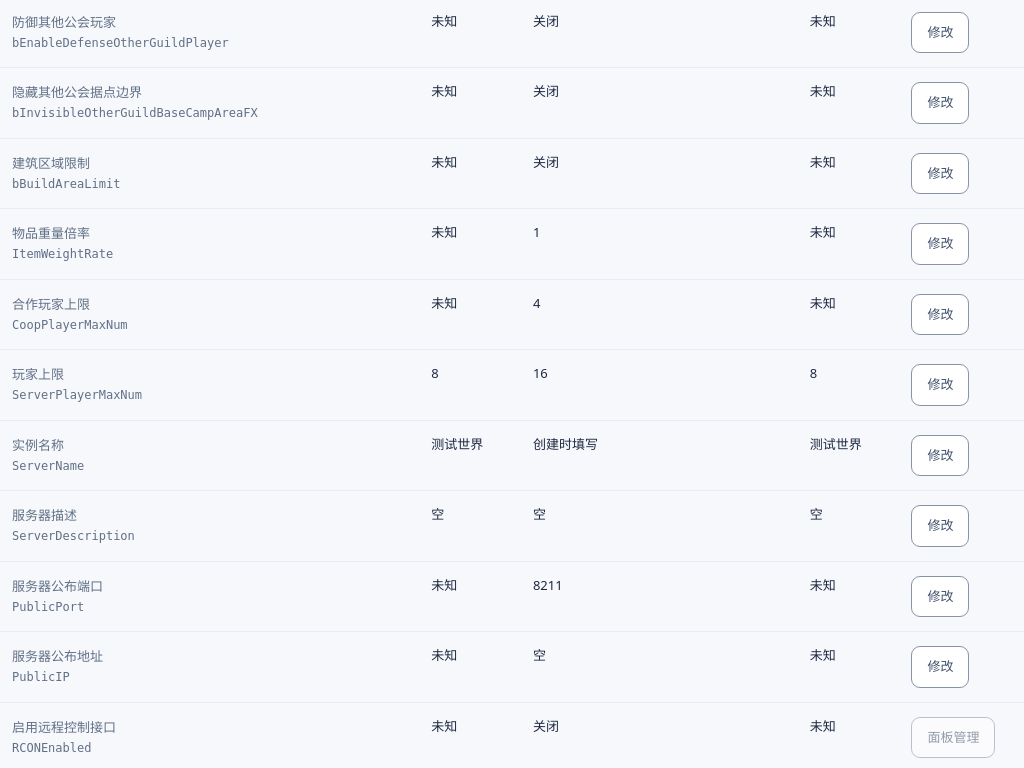
参数列表编辑 › 保存失败保留输入和弹窗，可修改后重试
The image size is (1024, 768).
(page scrolled)
Click the button with aria-label "修改玩家上限".
click(940, 385)  # box [911,364,969,406]
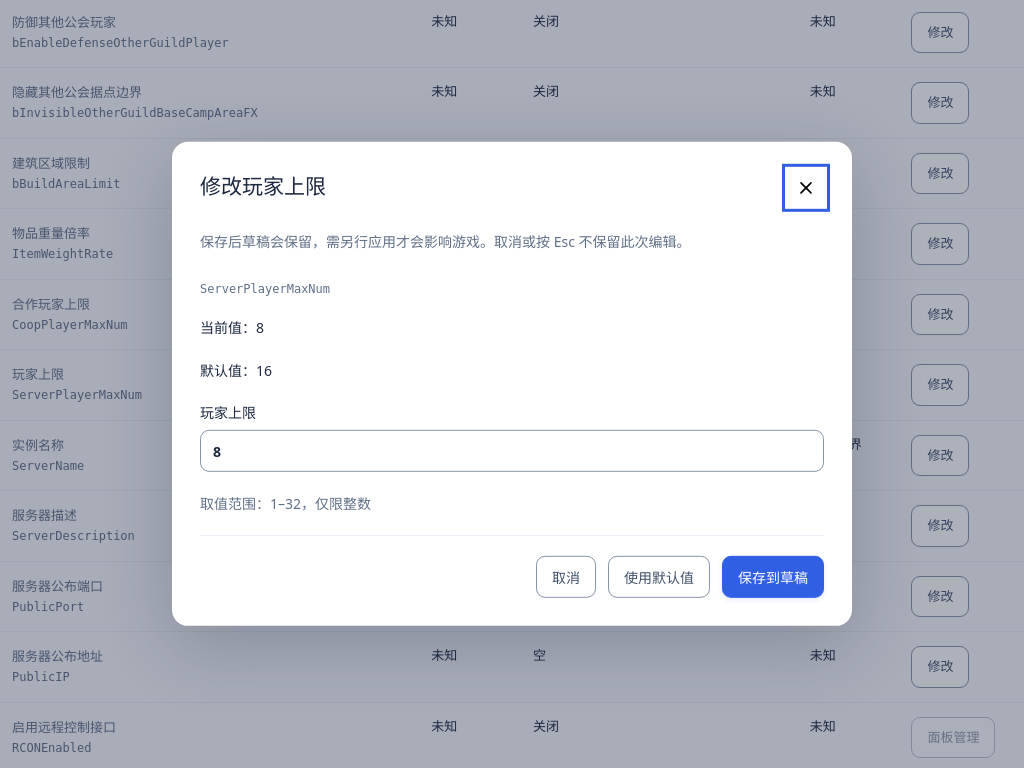
Clear the number field labelled "玩家上限" at coordinates (512, 451), box [200,430,824,472]
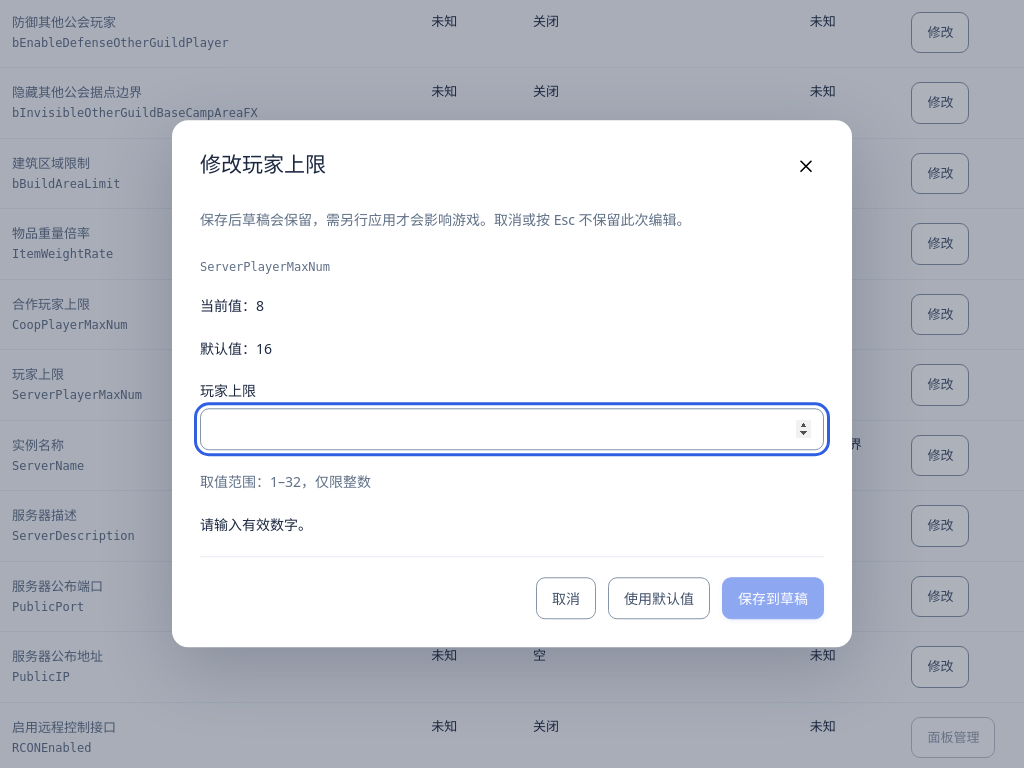
Type "12" into the number field labelled "玩家上限".
click(512, 430); type("12")  # box [200,408,824,450]
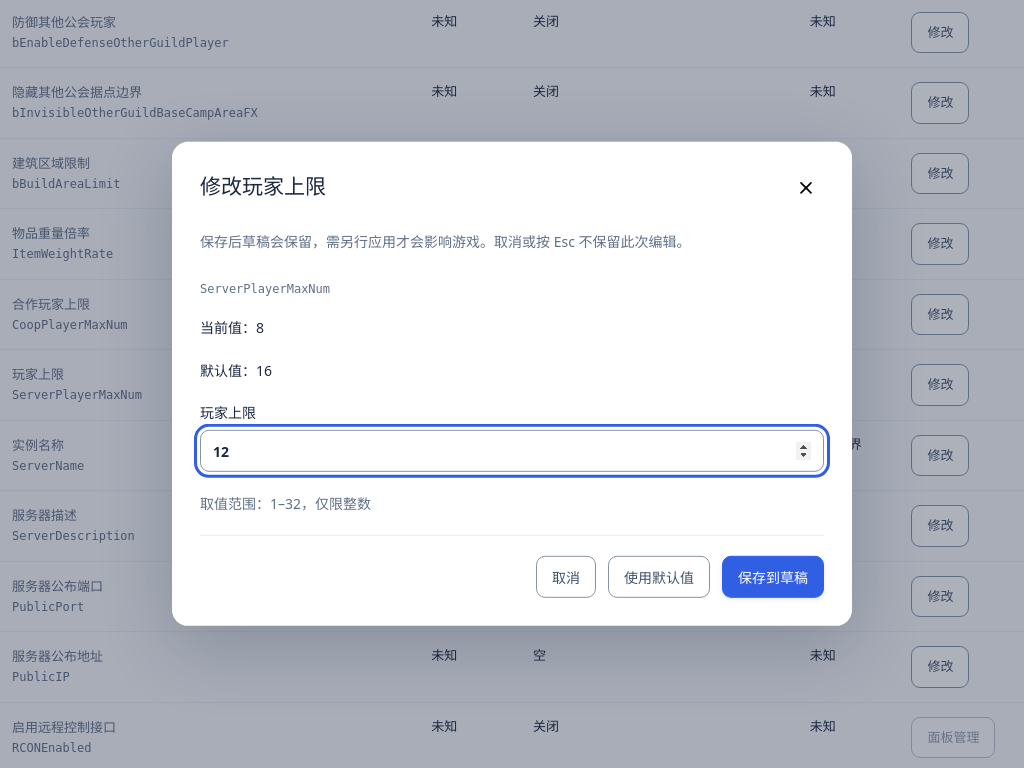
Click the button "保存到草稿".
click(773, 577)  # box [722,556,824,598]
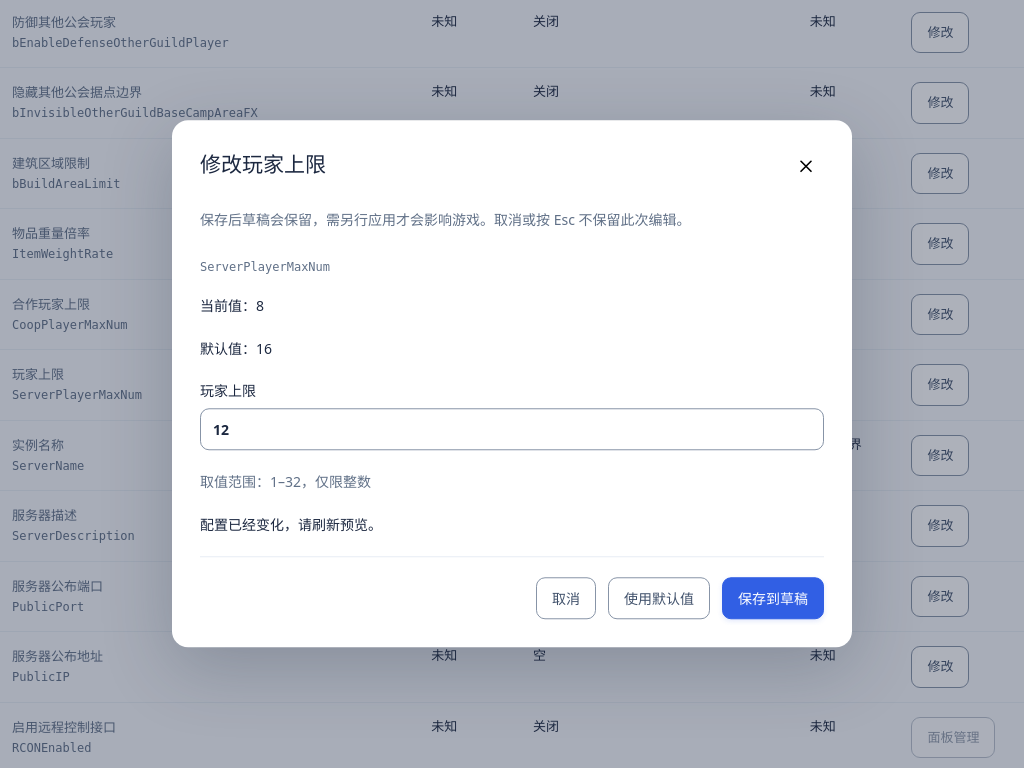
Expected: the message shows "配置已经变化", [200,516,382,535]
Click the button "保存到草稿".
click(773, 599)  # box [722,578,824,620]
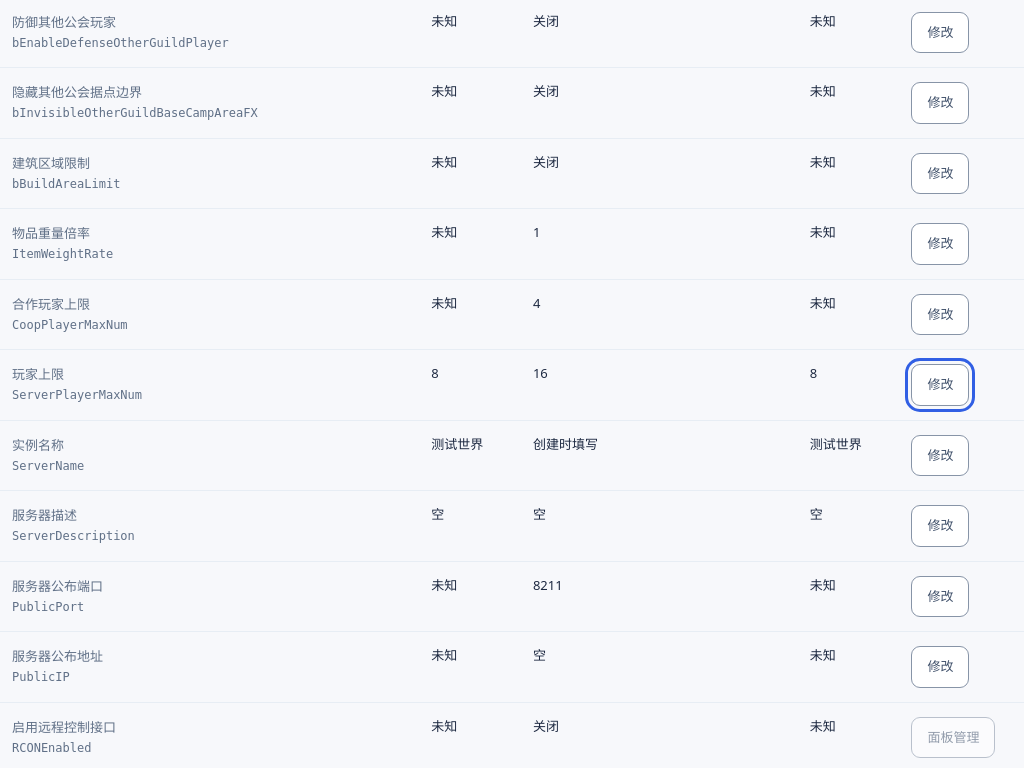
Expected: the dialog is gone
